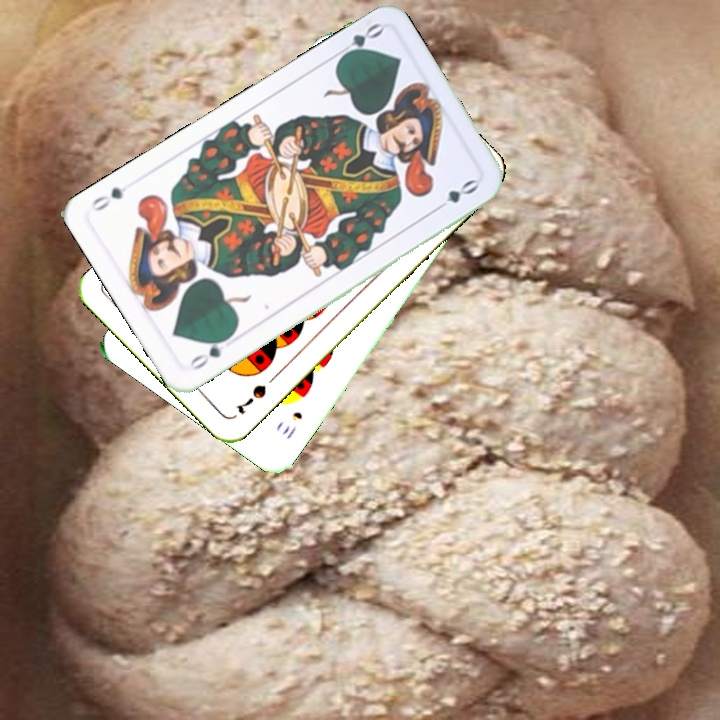GO: (331, 19, 386, 63), (184, 331, 234, 373)
S10: (278, 407, 305, 442)
S7: (232, 380, 269, 416)
